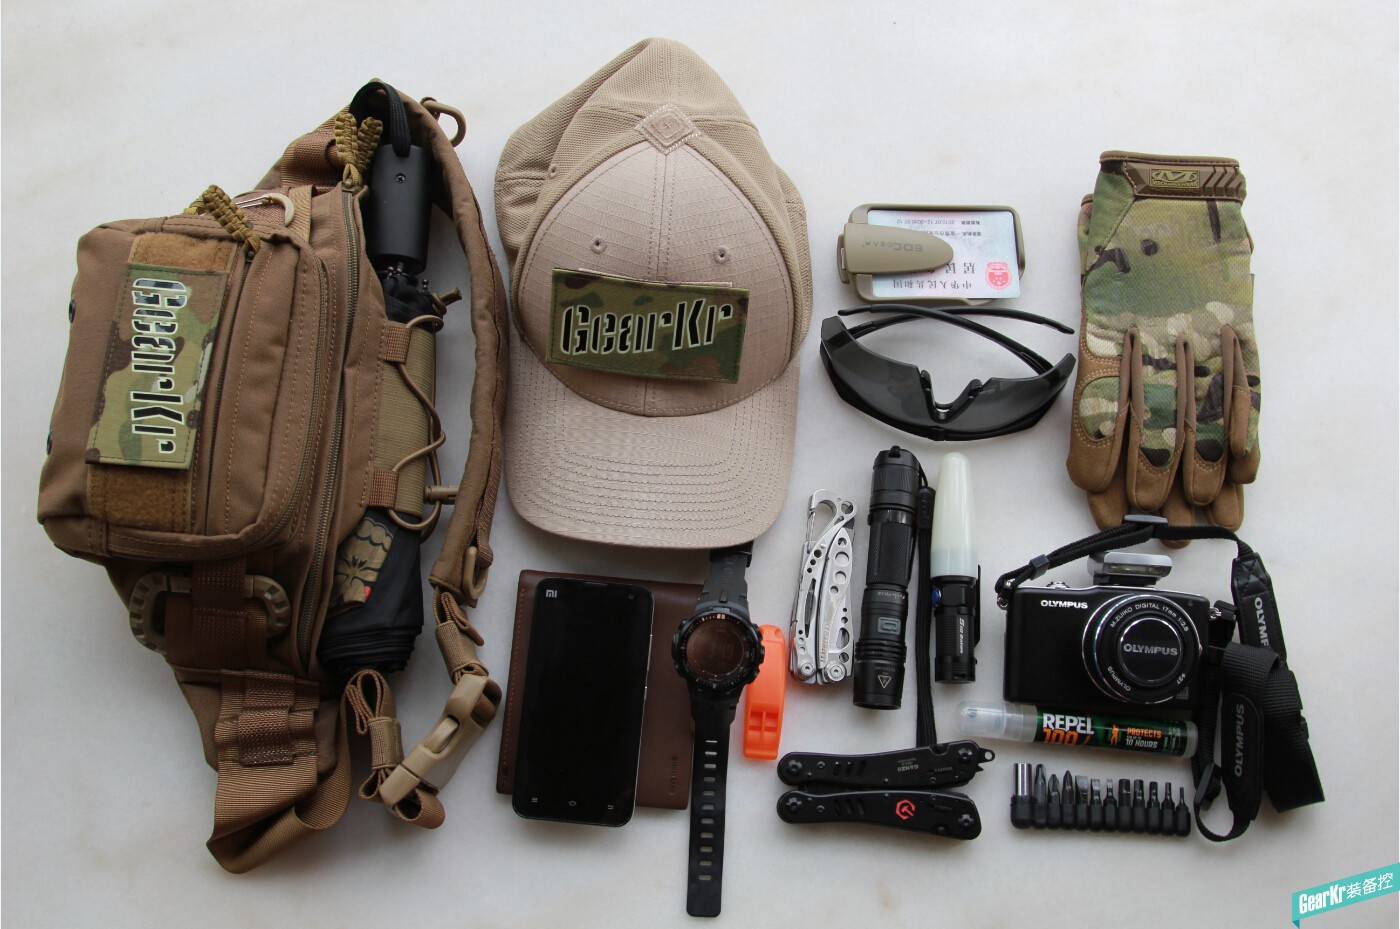flexible: (44, 88, 495, 841), (486, 41, 816, 550), (1048, 150, 1285, 534)
